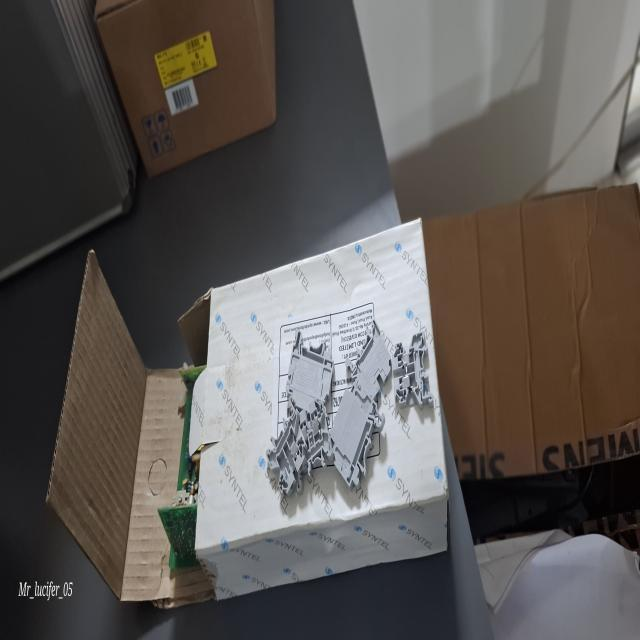Inverted: (347, 313, 394, 405)
Pass: (387, 324, 438, 424)
Reject: (266, 404, 319, 508)
